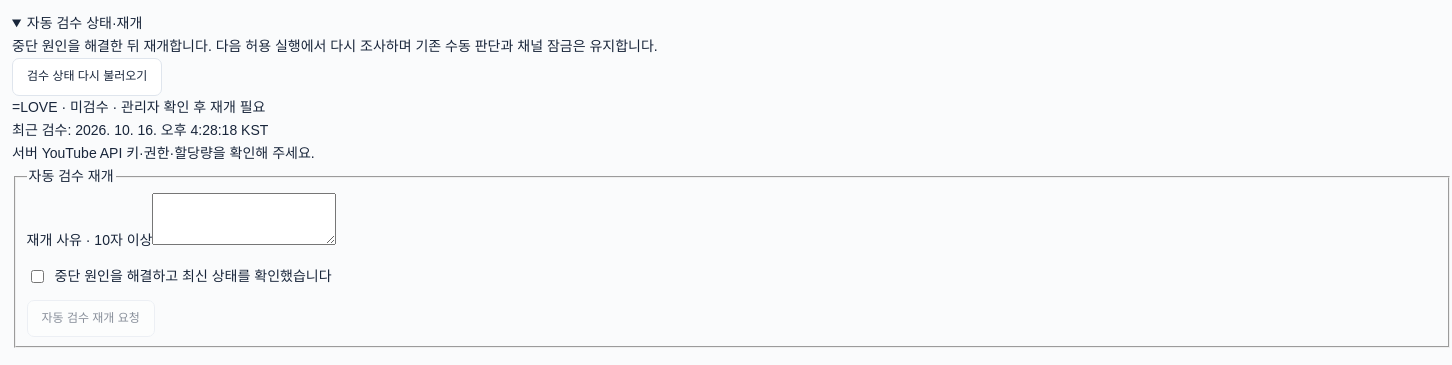
Test case: lazy status read, confirmation, exact snapshot resume and success feedback
Expected: the text "=LOVE · 미검수 · 관리자 확인 후 재개 필요" is shown, [12,99,265,115]
Expected: the text "서버 YouTube API 키·권한·할당량을 확인해 주세요." is shown, [12,145,315,161]
Type "Supabase 서버에 YouTube API 키를 등록하고 중단 원인을 확인했습니다." into the text box labelled "재개 사유 · 10자 이상" at (244, 219), box [152,193,336,246]
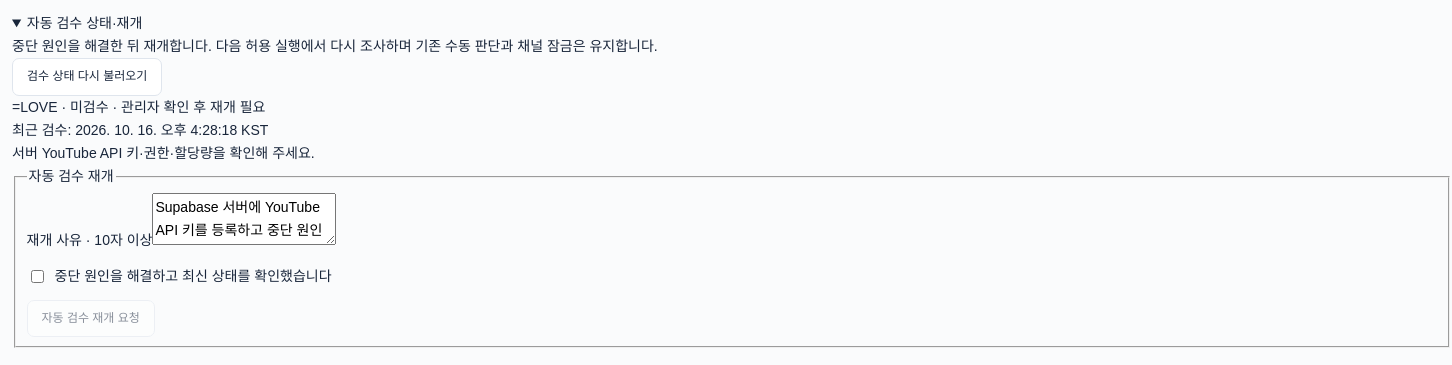
Click the checkbox labelled "중단 원인을 해결하고 최신 상태를 확인했습니다" at (37, 276), box [30,270,44,283]
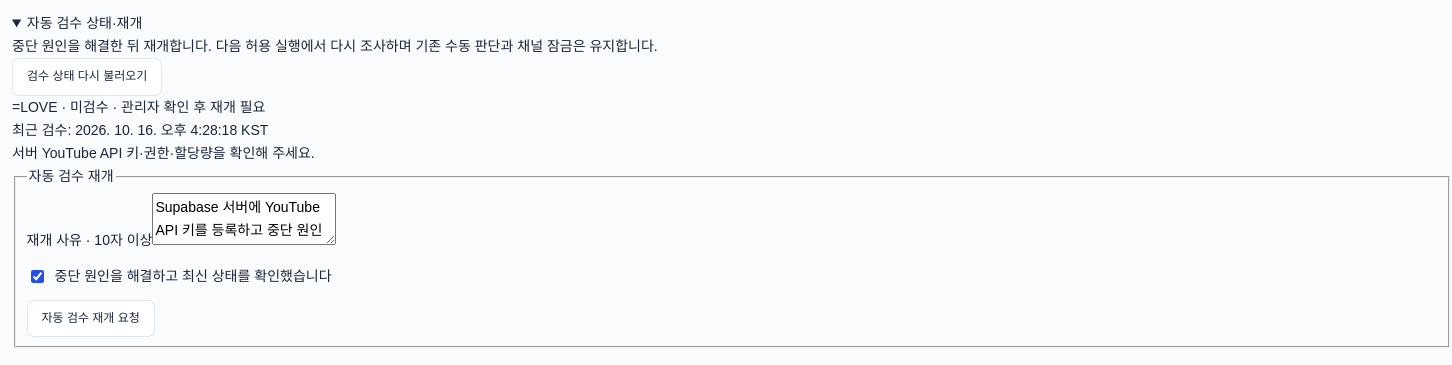
Click the button "자동 검수 재개 요청" at (91, 318), box [26,300,155,337]
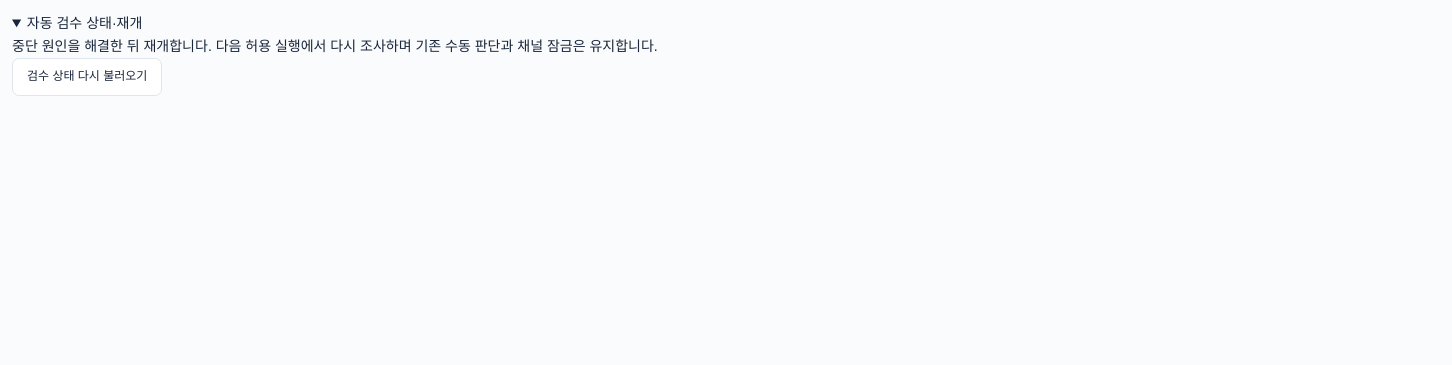
Expected: the button "자동 검수 재개 요청" is gone
